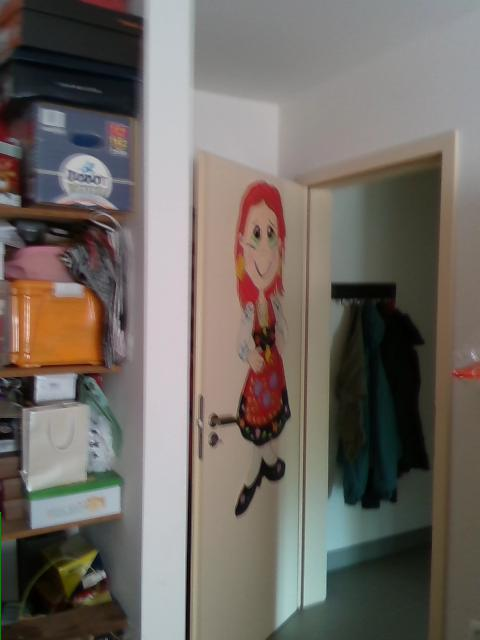open_door: (297, 127, 457, 639)
